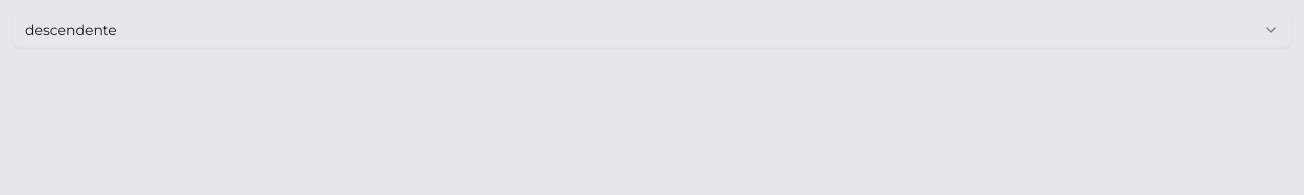
Test case: Test on <DateSelector /> › Should show the clear filter option when a date sort is set
What coordinates should you click on to do the following:
click the dropdown
I would click on:
 (71, 30)
Its box is [12,12,1292,48].
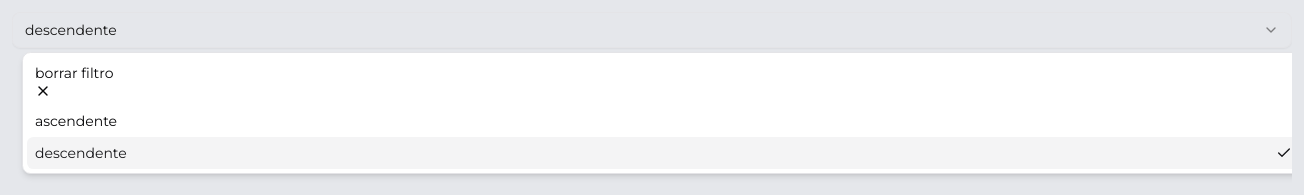
Result: the option "borrar filtro" is shown at [35,64,113,99]
